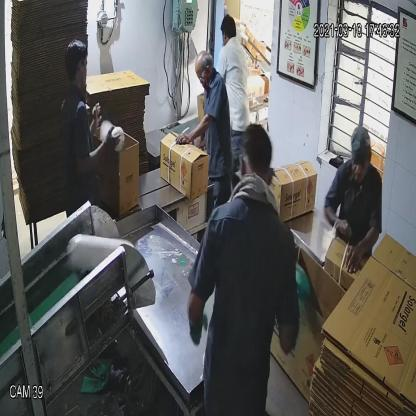no_glove: (70, 118, 127, 179), (344, 214, 385, 281), (171, 100, 216, 148)
